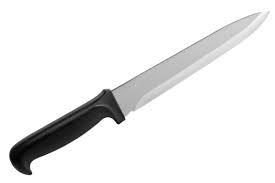Knife: (8, 9, 270, 175)
